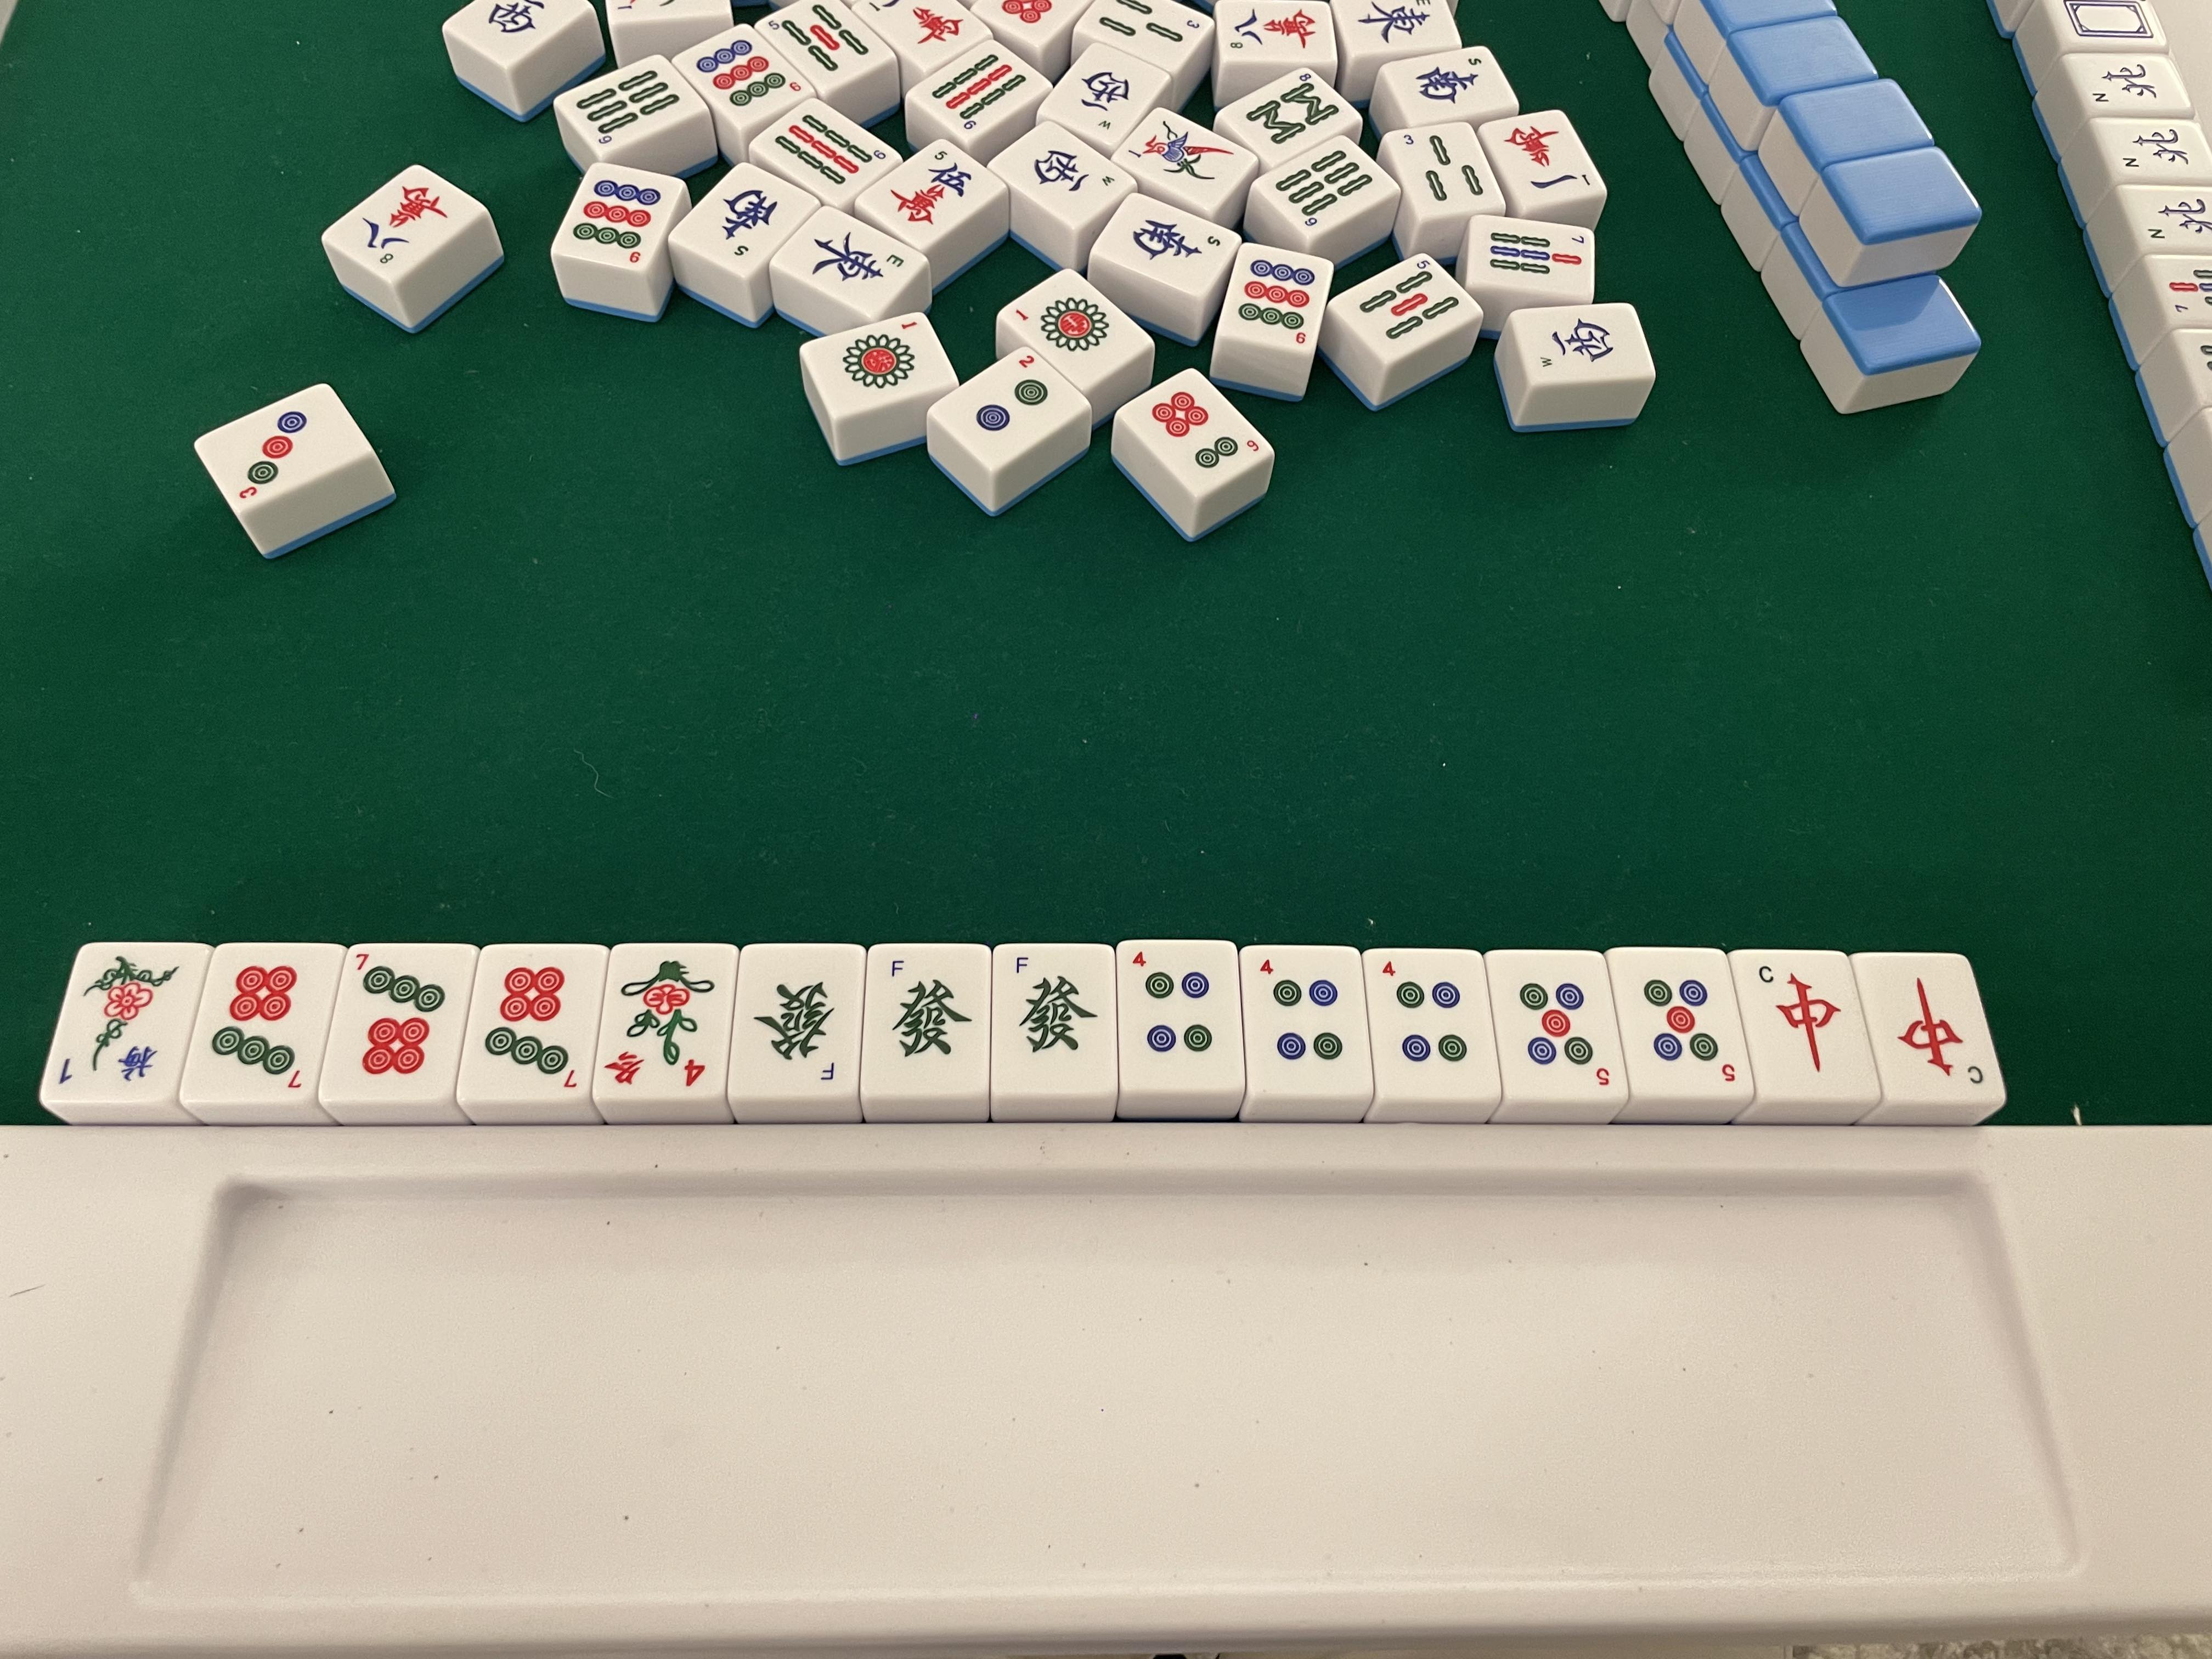circle-five: (1507, 964, 1618, 1093), (1639, 965, 1735, 1082)
circle-four: (1127, 943, 1230, 1065), (1252, 955, 1355, 1068), (1381, 955, 1474, 1079)
circle-seven: (345, 945, 448, 1094), (481, 948, 585, 1093), (212, 951, 310, 1100)
flower-blue_one: (59, 951, 183, 1094)
flower-red_four: (603, 953, 716, 1091)
honor-green_dragon: (878, 948, 979, 1070), (749, 958, 845, 1080), (1005, 951, 1090, 1066)
honor-red_dragon: (1750, 955, 1844, 1082), (1888, 974, 1986, 1091)
